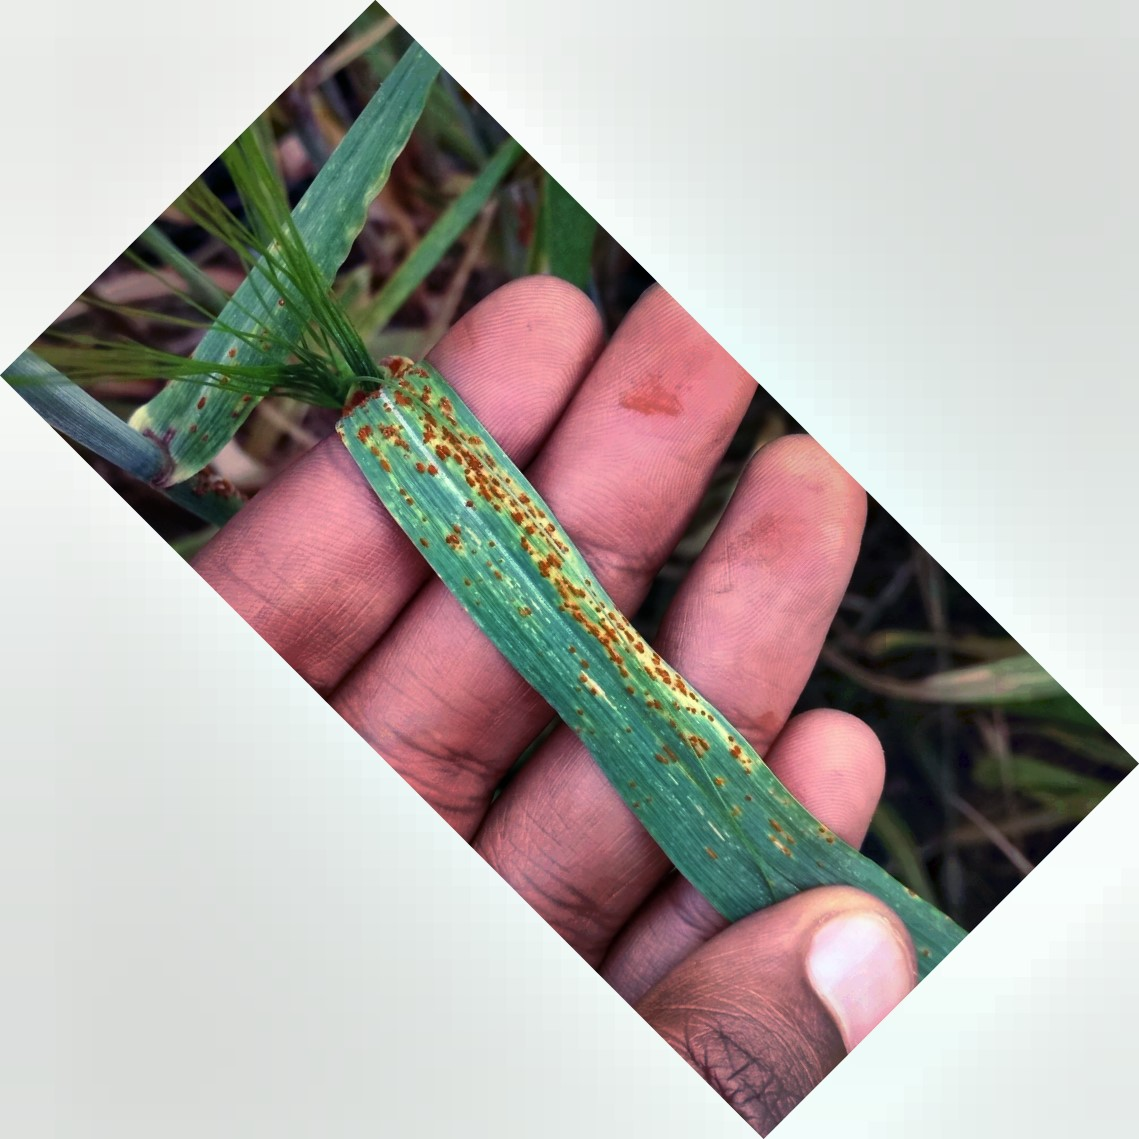Leaf Rust: (341, 352, 791, 868)
